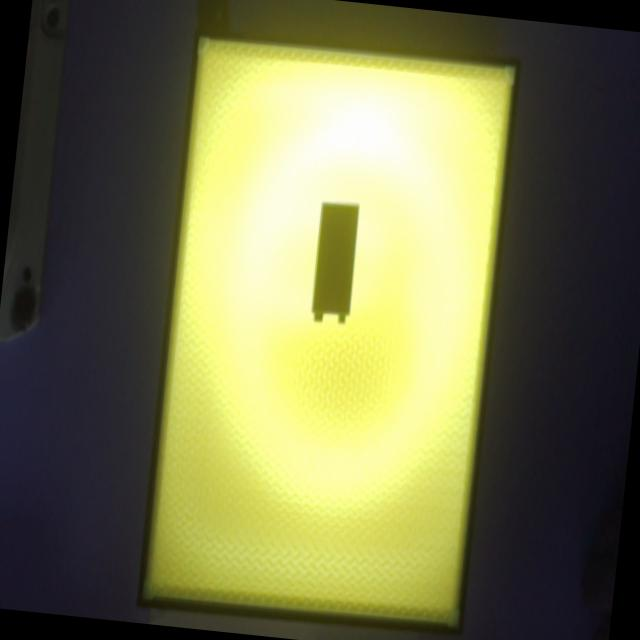bateria: (310, 199, 361, 323)
mesa: (135, 26, 521, 639)
